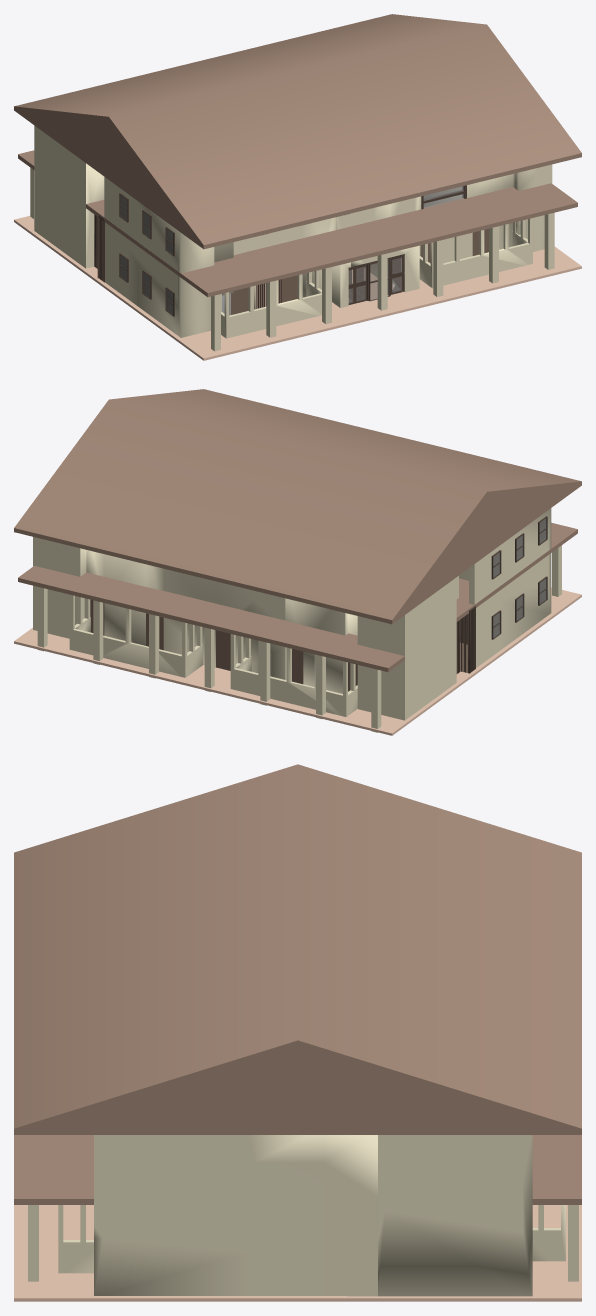
The model's file is school.fbx.
The picture shows the model from 3 angles, top to bottom: view 1: azimuth 30°, elevation 25°; view 2: azimuth 150°, elevation 25°; view 3: azimuth 270°, elevation 25°; orthographic projection. The views are drawn at different scales.
Parts seen in each view (by area): view 1: pCube32, polySurface80, pCube33, pCube31, balcony124, balcony, pasted__polySurface176.001, pCube35, pCube37, pCube38, pCube40, pCube34 (+4 smaller); view 2: pCube32, polySurface80, pCube33, pCube31, balcony124124124124, balcony124124124, pCube36.001, pCube39.001, pCube40.001, pCube37.001, pCube41, pCube38.001 (+4 smaller); view 3: pCube32, polySurface80, pCube31, pCube33, balcony124, balcony124124124124, pCube40, pCube40.001.
Boxes of the visible parts, x1,y1,x2,y2 form: pCube32: (14,14,581,249); polySurface80: (34,125,552,337); pCube33: (18,150,577,297); pCube31: (14,216,581,360); balcony124: (419,218,532,288); balcony: (221,270,321,338); pasted__polySurface176.001: (348,254,404,304); pCube35: (266,280,276,337); pCube37: (377,253,387,310); pCube38: (433,240,443,296); pCube40: (544,212,554,269); pCube34: (211,294,220,351); pCube32: (14,389,581,624); polySurface80: (33,508,551,720); pCube33: (18,522,577,672); pCube31: (14,587,581,735); balcony124124124124: (69,594,202,677); balcony124124124: (230,634,357,716); pCube36.001: (260,641,270,705); pCube39.001: (93,600,103,664); pCube40.001: (37,587,47,651); pCube37.001: (204,627,214,691); pCube41: (371,668,381,732); pCube38.001: (149,614,158,678); pCube32: (14,764,581,1134); polySurface80: (94,1135,532,1296); pCube31: (14,1205,581,1301); pCube33: (14,1135,581,1204); balcony124: (58,1205,93,1273); balcony124124124124: (532,1205,565,1261); pCube40: (28,1205,38,1281); pCube40.001: (568,1205,578,1281).
Bounding box in the file's own units: 40.8 × 18.15 × 35.47.
